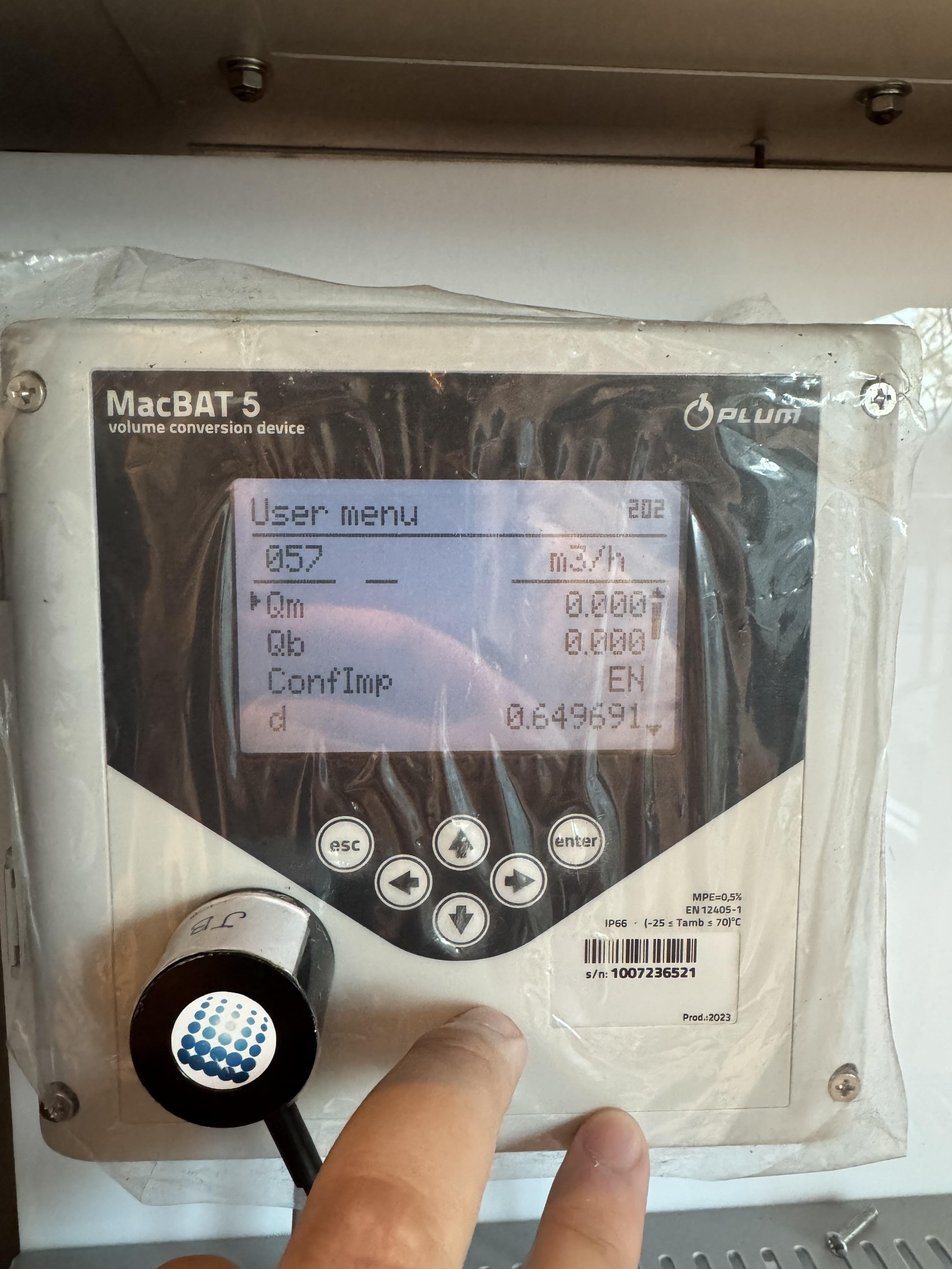digital_screen: (233, 480, 686, 752)
